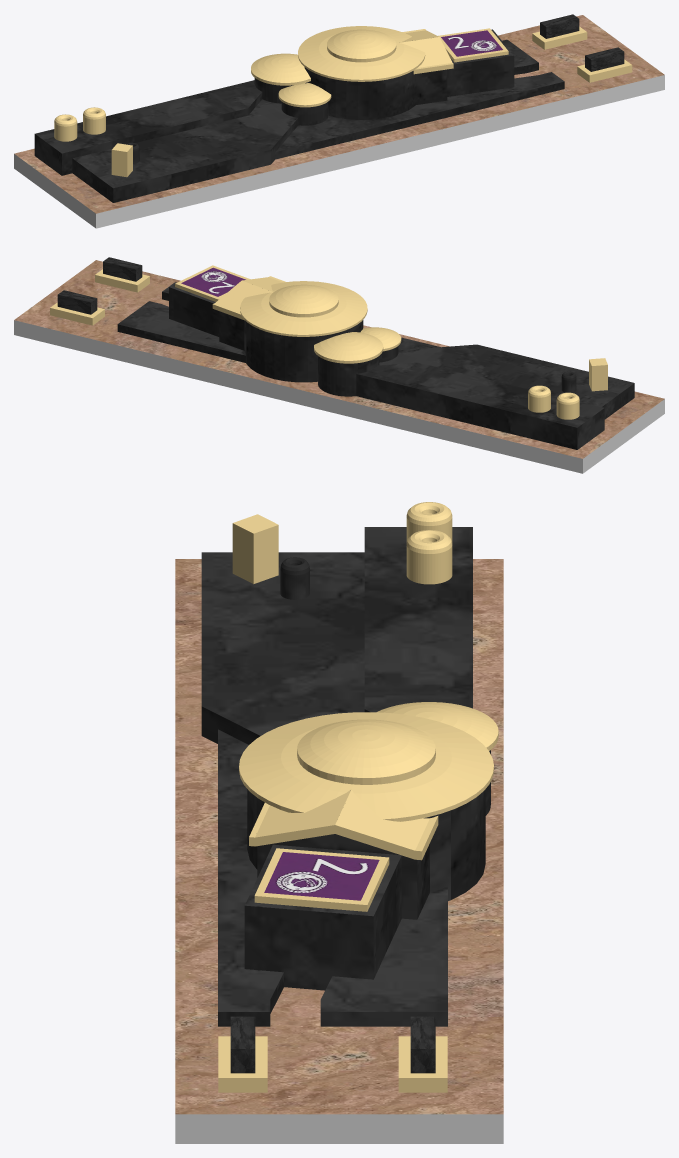
Rendered from buildingForoArtesano.glb.
3 renders of one model, top to bottom at view 1: azimuth 30°, elevation 25°; view 2: azimuth 150°, elevation 25°; view 3: azimuth 270°, elevation 25°, orthographic. The views are drawn at different scales.
Visible parts, largest first — view 1: ForoArtesanosI; view 2: ForoArtesanosI; view 3: ForoArtesanosI.
Boxes of the visible parts, x1,y1,x2,y2 form: ForoArtesanosI: [14, 14, 664, 228]; ForoArtesanosI: [14, 257, 664, 473]; ForoArtesanosI: [175, 502, 503, 1143].
Size of the model in its own units: 8 by 1.07 by 2.
Materials: 5 (3 with a texture image).
